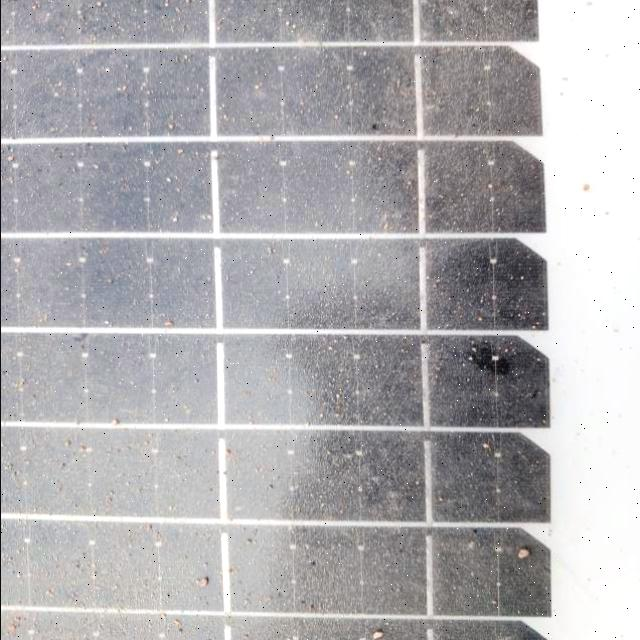Surface Contaminant: (9, 10, 558, 628)
